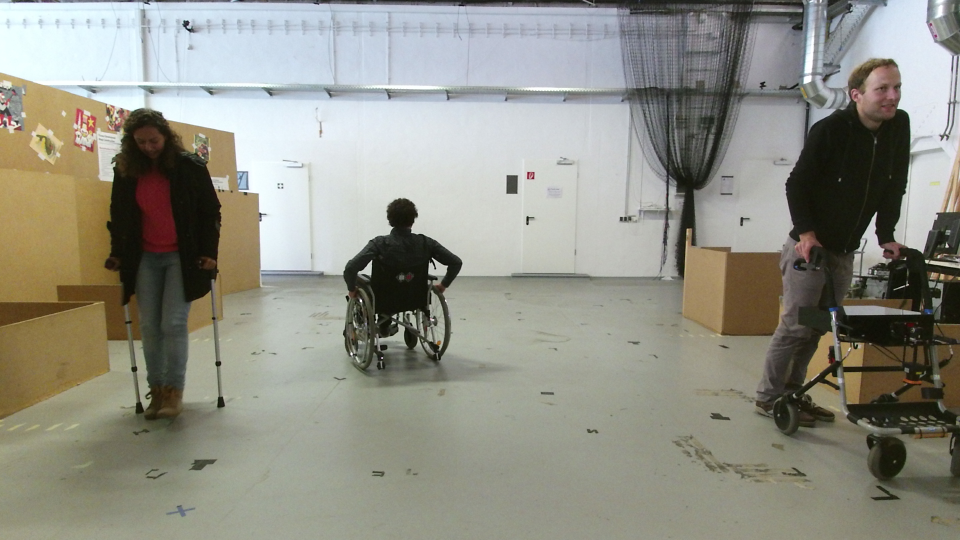crutches: (104, 98, 235, 417)
wheelchair: (340, 197, 468, 376)
